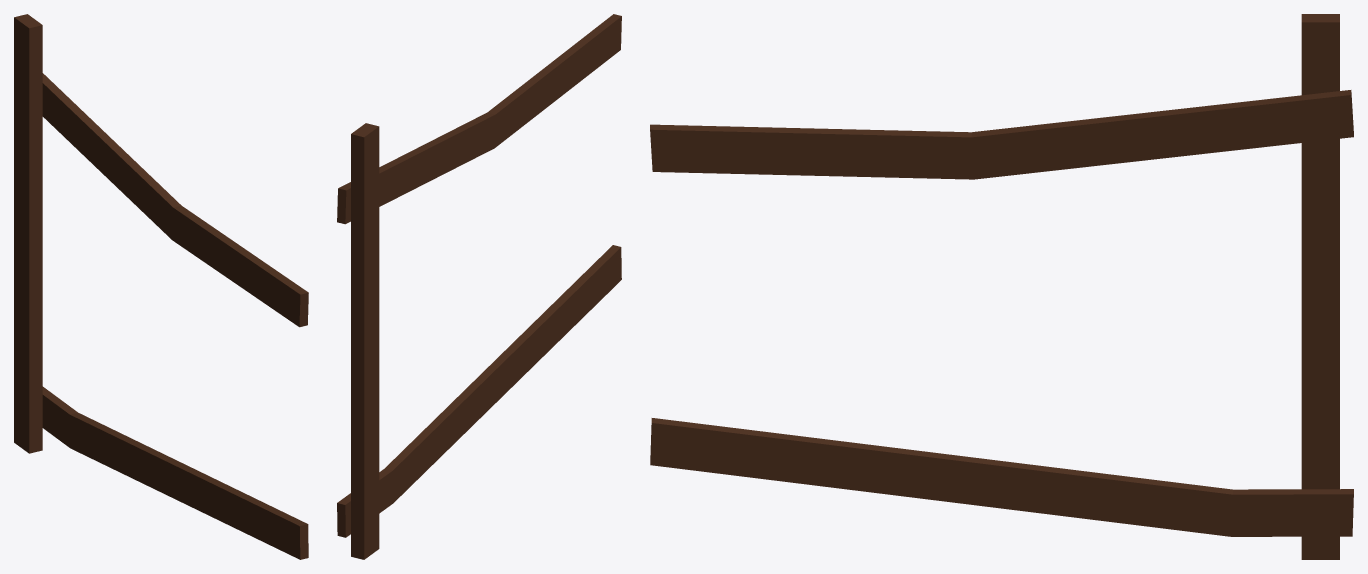
File: wfens2.fbx
3 views of the same model, side by side, from view 1: azimuth 30°, elevation 25°; view 2: azimuth 150°, elevation 25°; view 3: azimuth 270°, elevation 25° (orthographic). The views are drawn at different scales.
Visible parts, largest first — view 1: Cube.204; view 2: Cube.204; view 3: Cube.204.
Boxes of the visible parts, x1,y1,x2,y2 form: Cube.204: (14, 14, 308, 559); Cube.204: (337, 14, 621, 559); Cube.204: (650, 14, 1353, 559).
Size of the model in its own units: 19.58 by 365 by 433.
